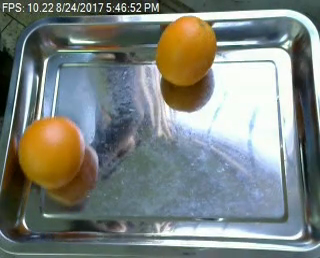Orange: (17, 115, 83, 188), (155, 14, 216, 85)
